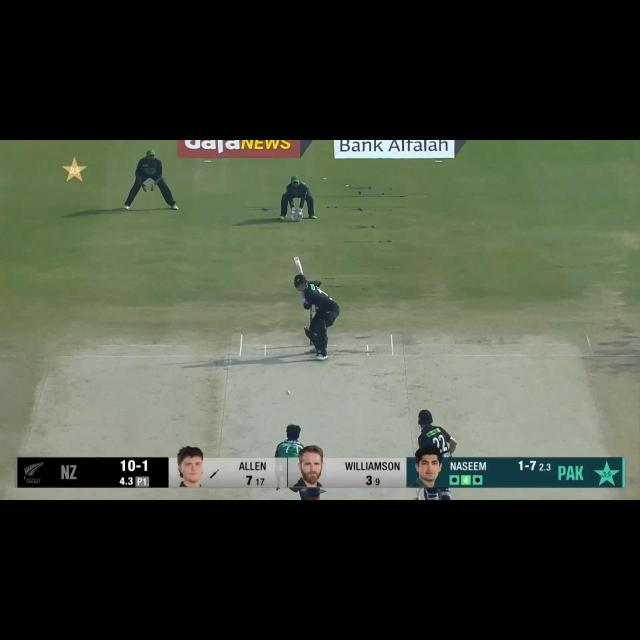bat: (292, 257, 306, 275)
toe: (290, 255, 304, 263)
